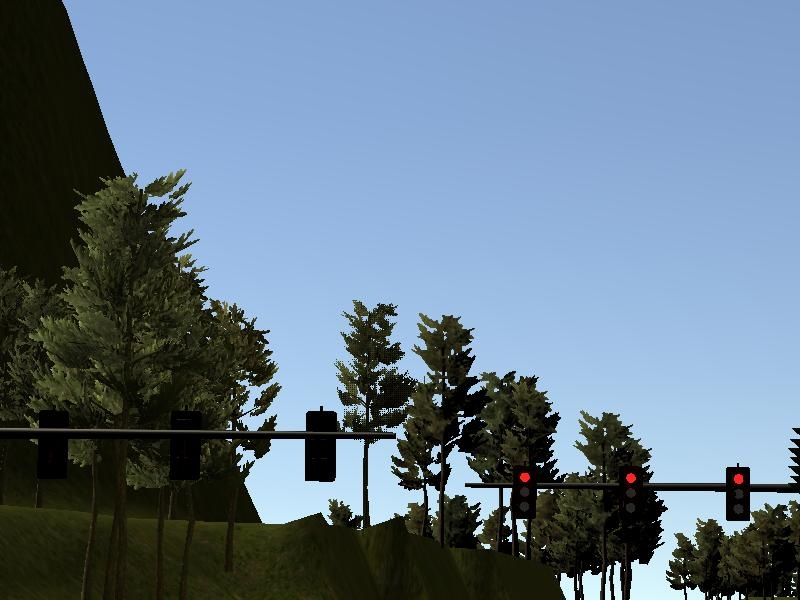traffic_light_red: (498, 464, 782, 522)
